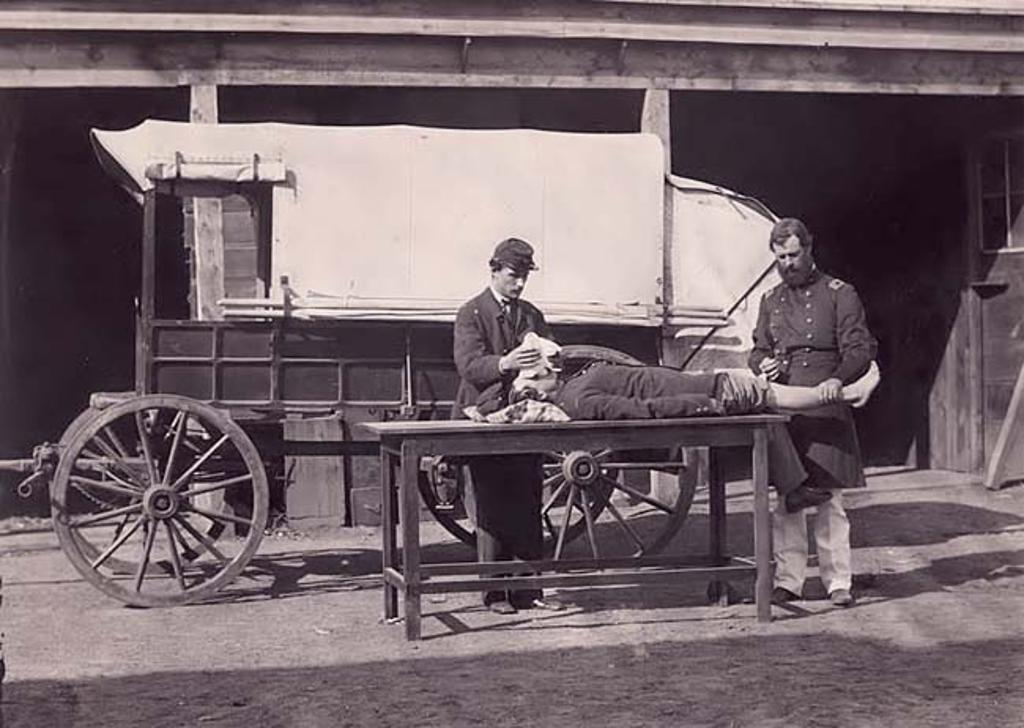face: (772, 236, 806, 282), (497, 261, 530, 298)
